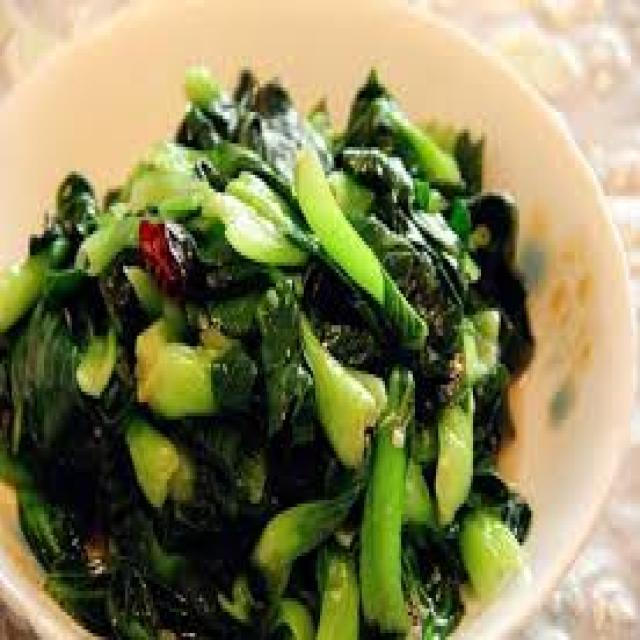food_waste: (0, 70, 529, 637)
